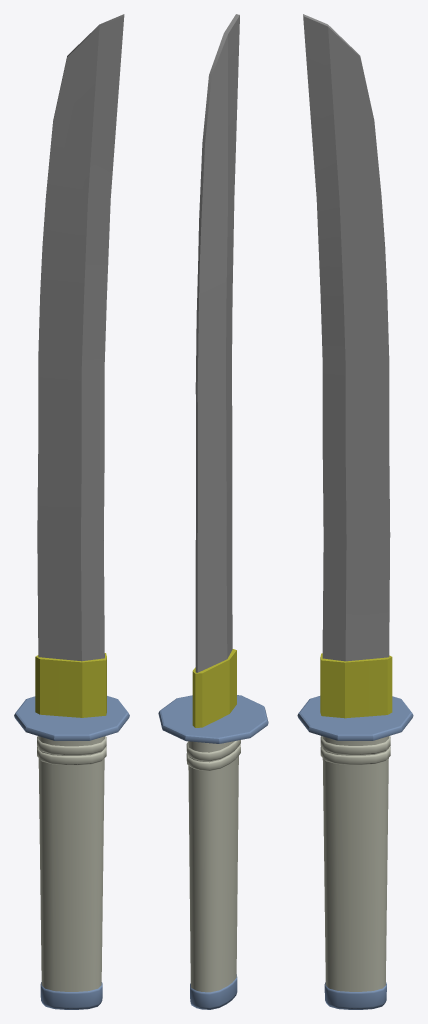
The picture shows the model from 3 angles, left to right: view 1: azimuth 90°, elevation 25°; view 2: azimuth 150°, elevation 25°; view 3: azimuth 270°, elevation 25°; orthographic projection. The views are drawn at different scales.
Visible parts, largest first — view 1: Cube.263; view 2: Cube.263; view 3: Cube.263.
Part boxes in pixels (x1,y1,x2,y2): Cube.263: (14, 14, 129, 1009); Cube.263: (158, 14, 268, 1009); Cube.263: (297, 14, 413, 1009).
Bounding box in the file's own units: 20.5 × 204 × 21.71.
